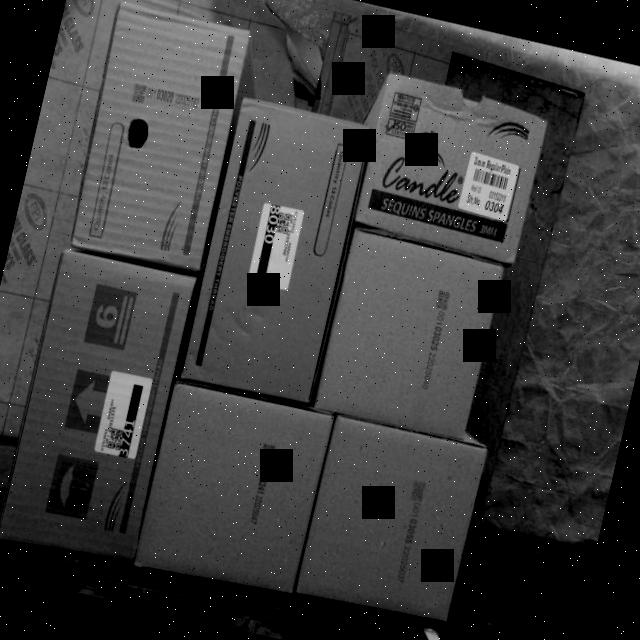box: (0, 243, 198, 571), (178, 96, 374, 406), (61, 0, 255, 271), (132, 378, 336, 602), (293, 409, 485, 631), (313, 231, 503, 438), (356, 69, 552, 261)
